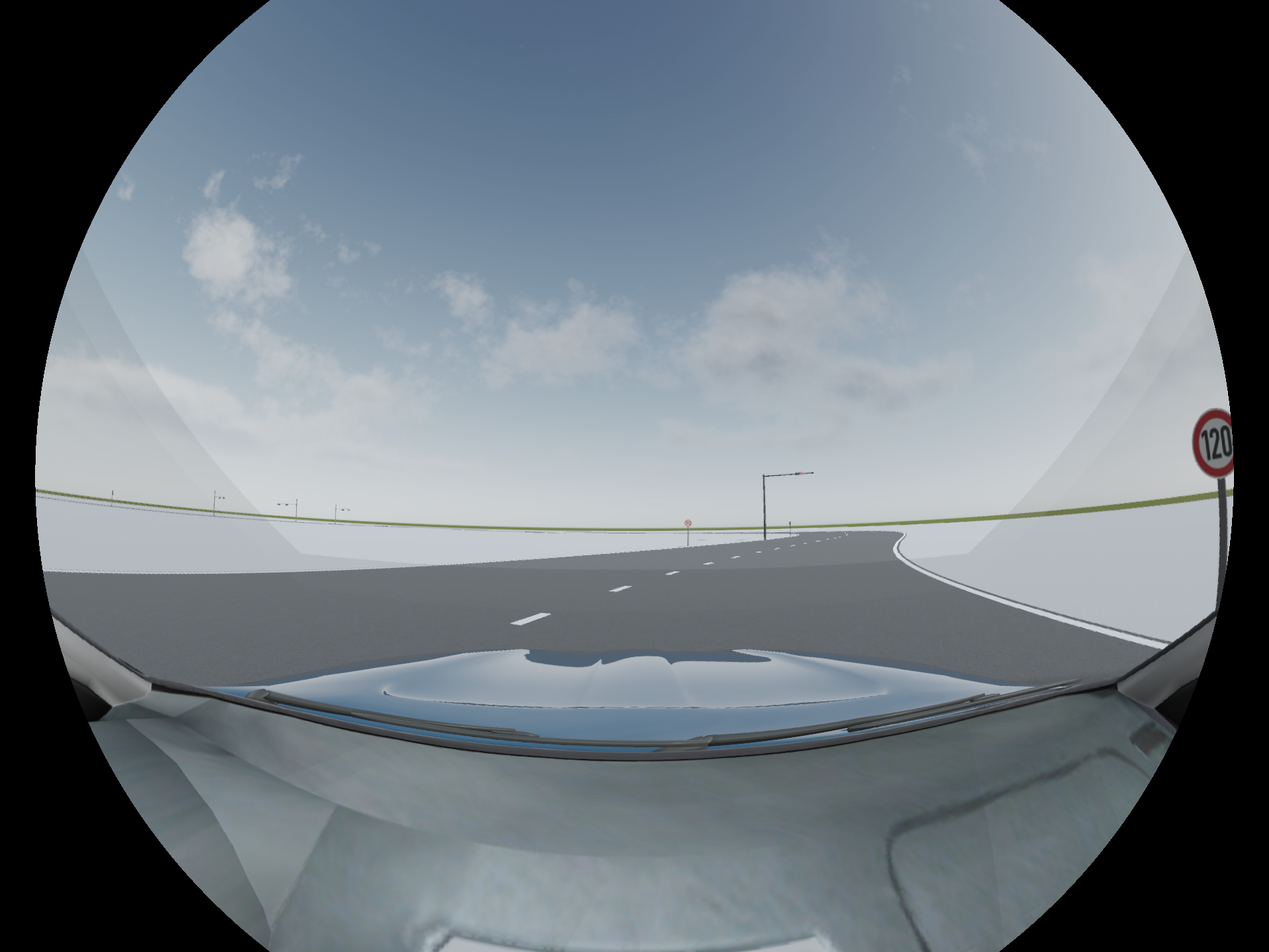Speed Limit 120: (1192, 409, 1234, 478)
